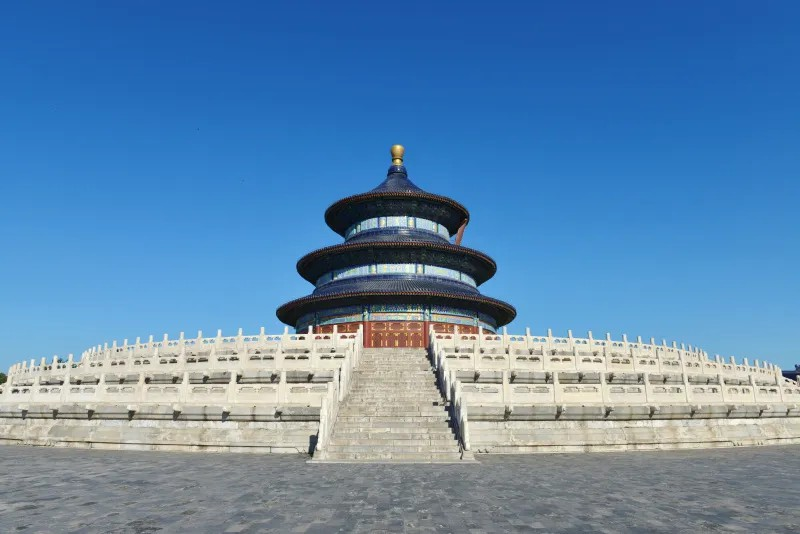Heaven: (276, 143, 518, 349)
